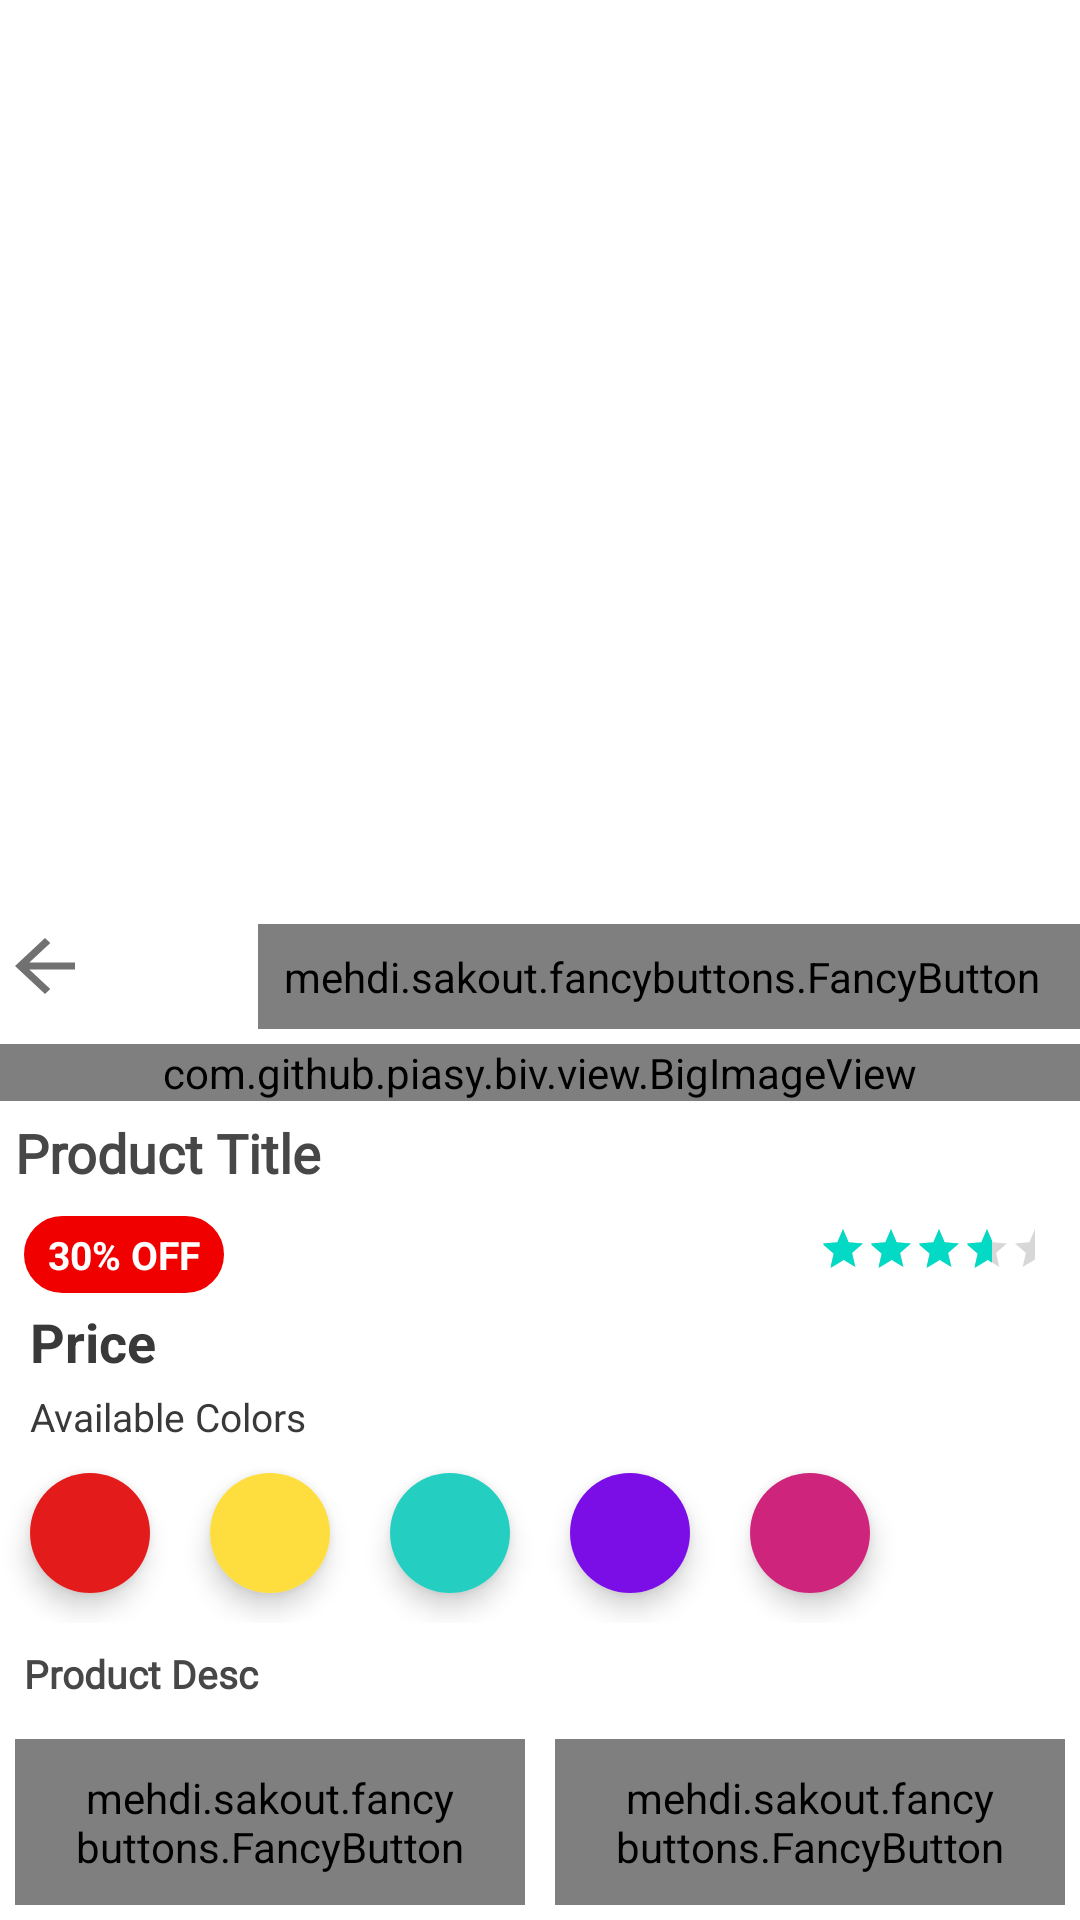

Where icons sit on this 1080w x 1920h app screen, as (x1, y1, x2, y2):
arrow back: (15, 938, 75, 994)
